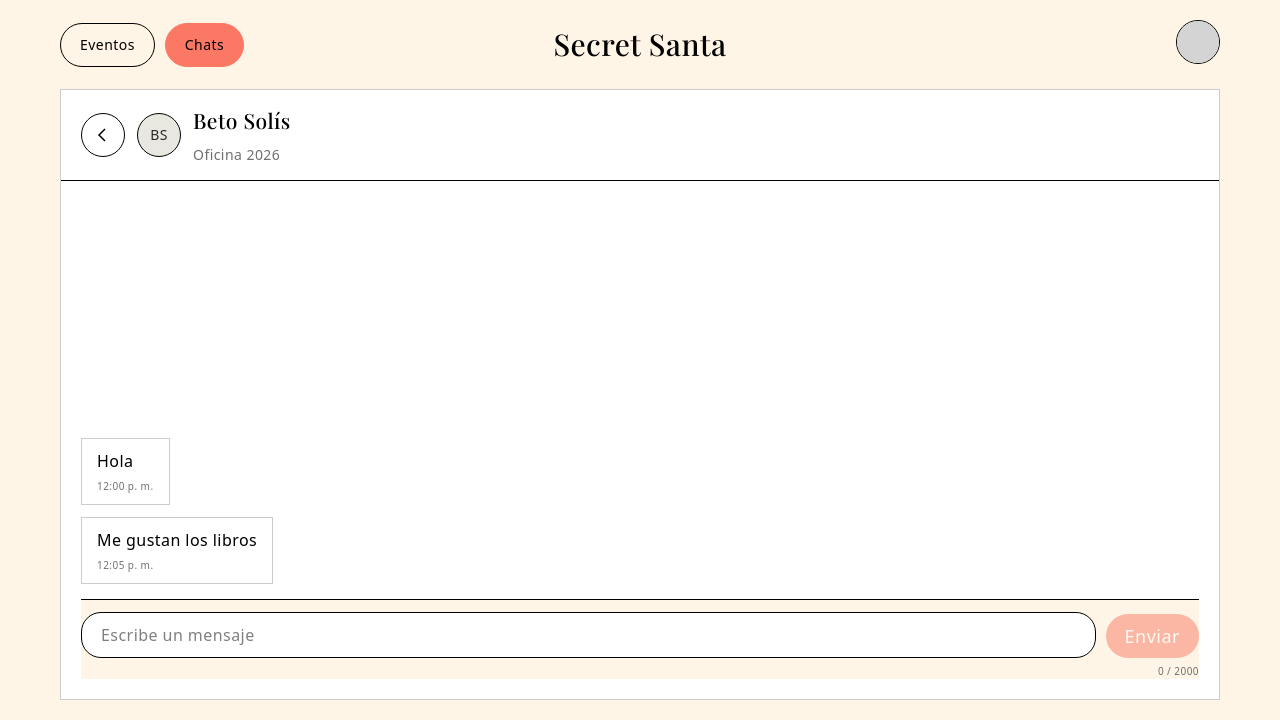
Thread page › a failed REST send shows the reason
Check: the list named "Mensajes" is shown, box [81,438,273,584]
Type "no va" into the text box named "Escribir un mensaje" at point(588, 635), box [81,612,1096,658]
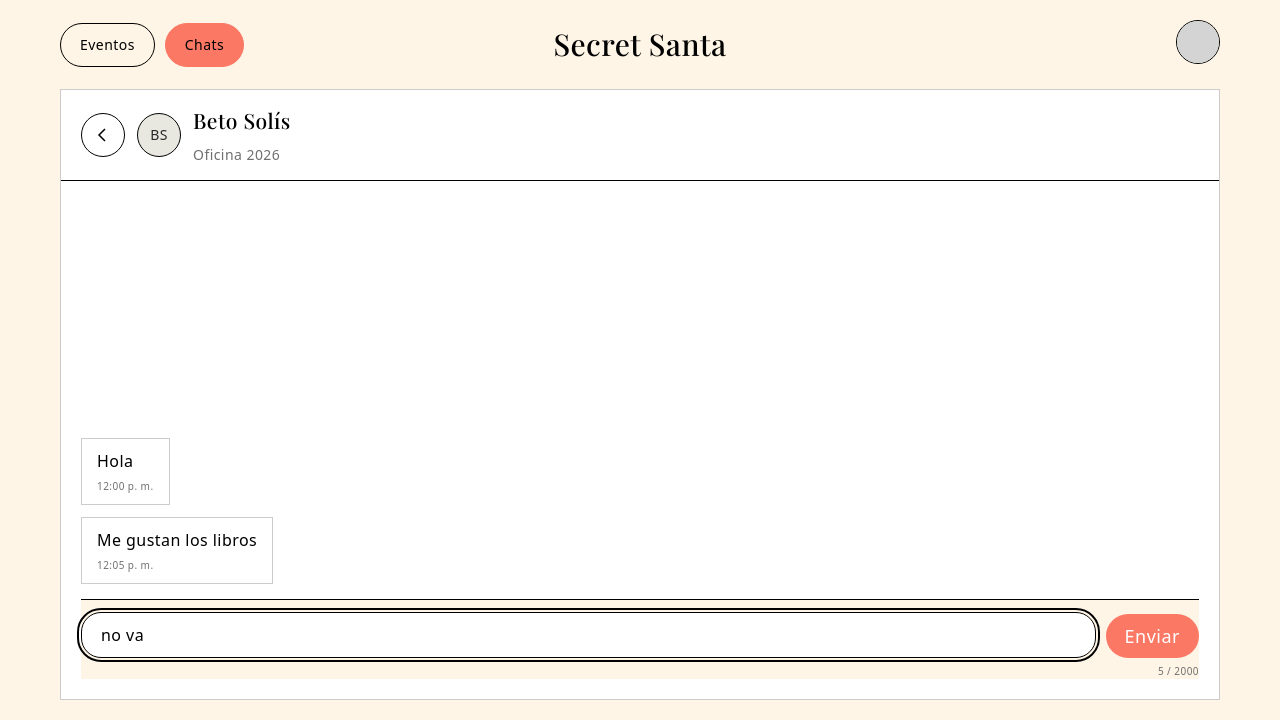
Click the button "Enviar" at point(1152, 636), box [1106,614,1199,658]
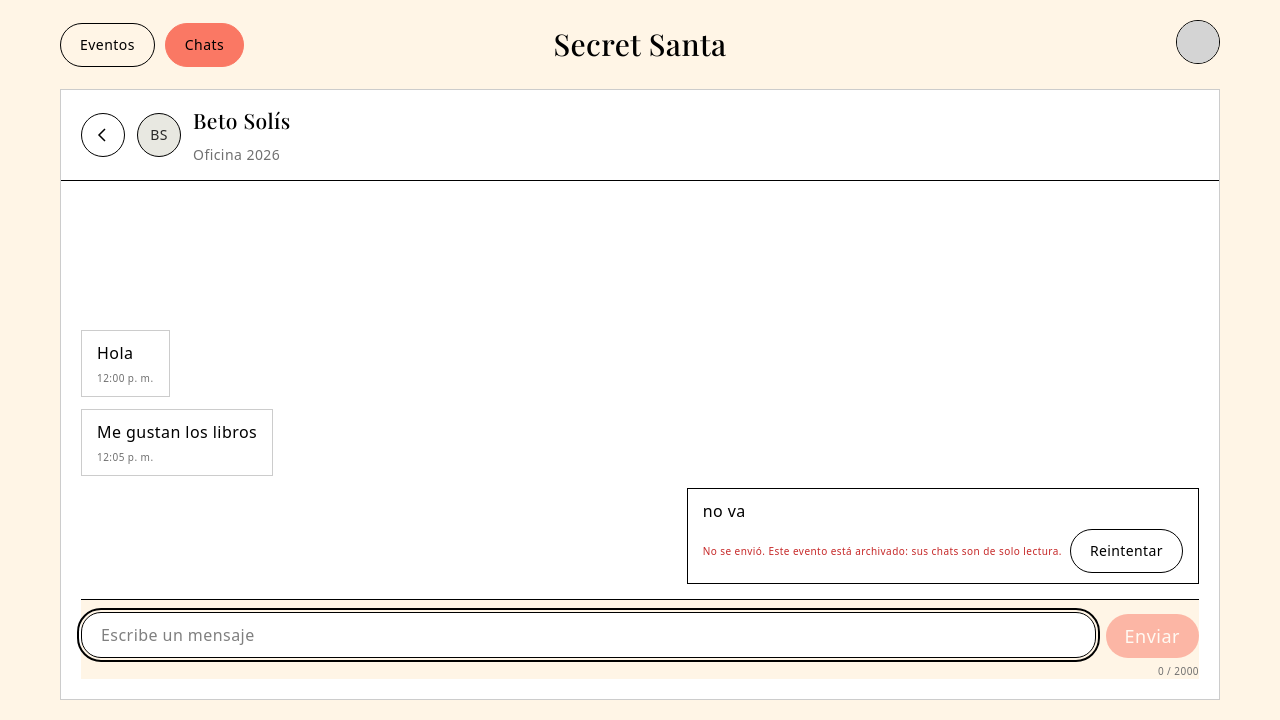
Check: the text "No se envió. Este evento está archivado" is shown, box [703,544,1062,558]
